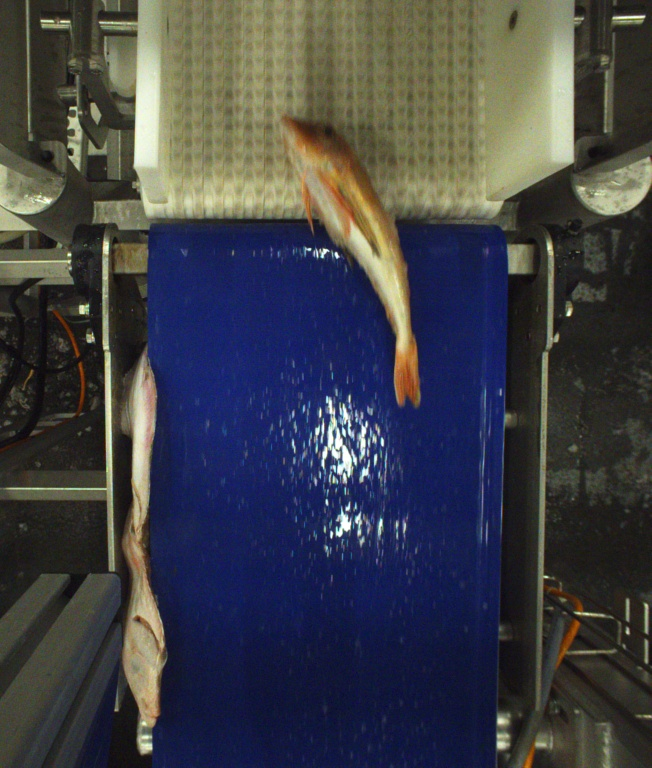GUU: (277, 112, 421, 407)
